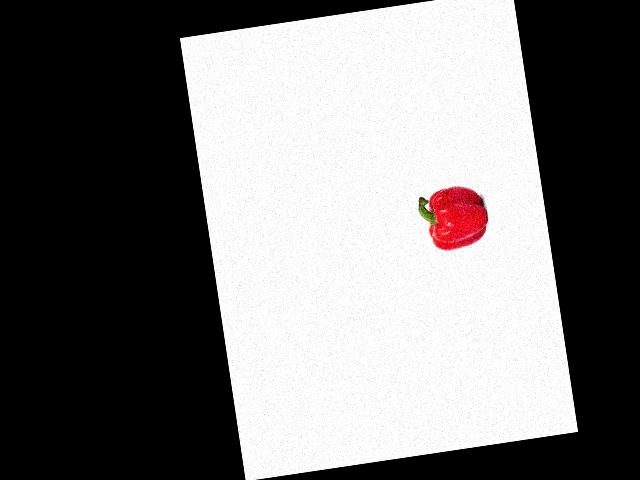bell_pepper: (414, 180, 491, 257)
